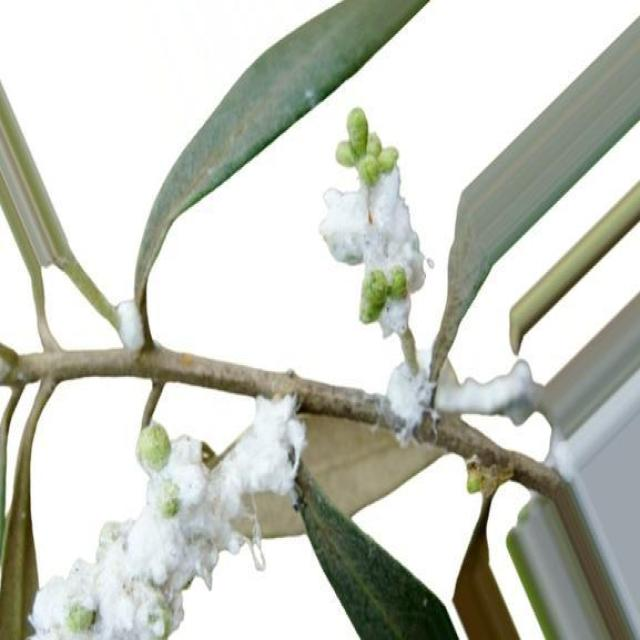Psyllid: (317, 108, 532, 442), (29, 396, 306, 639)
